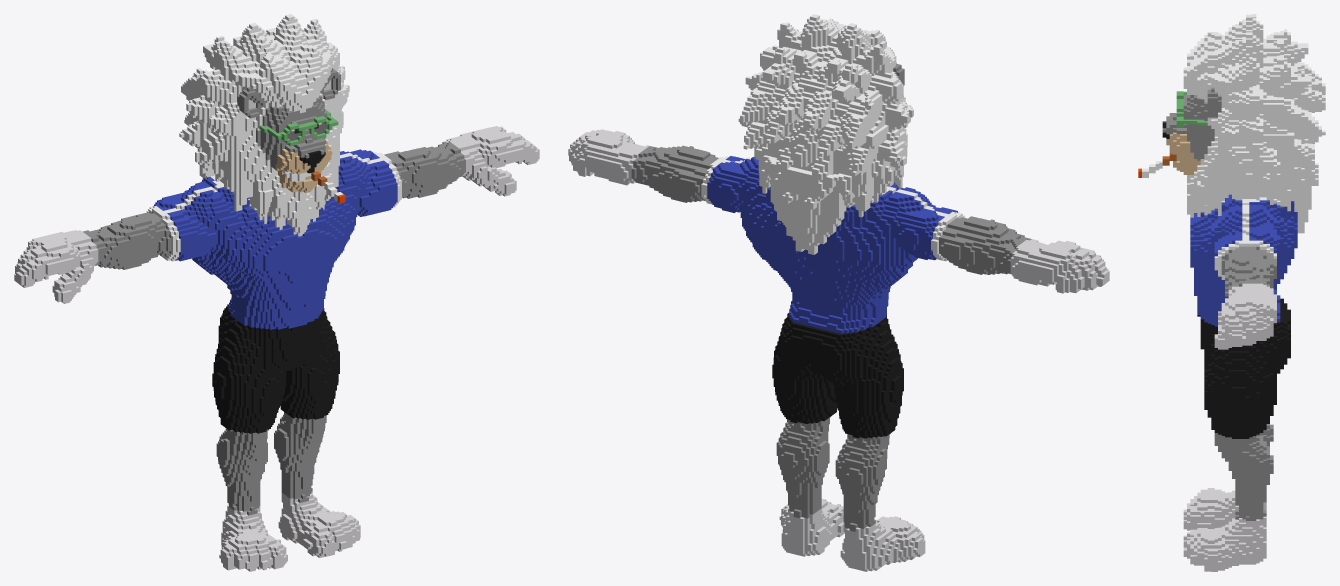
Rendered from 840-sTRRryuQ.glb.
The picture shows the model from 3 angles, left to right: view 1: azimuth 30°, elevation 25°; view 2: azimuth 150°, elevation 25°; view 3: azimuth 270°, elevation 25°; orthographic projection. The views are drawn at different scales.
Parts seen in each view (by area): view 1: cigarette; view 2: cigarette; view 3: cigarette.
Part boxes in pixels (x1,y1,x2,y2): cigarette: (14, 14, 539, 571); cigarette: (568, 14, 1109, 571); cigarette: (1138, 14, 1325, 571).
Size of the model in its own units: 17.2 by 16.5 by 5.4.
5 materials, 5 textured.
